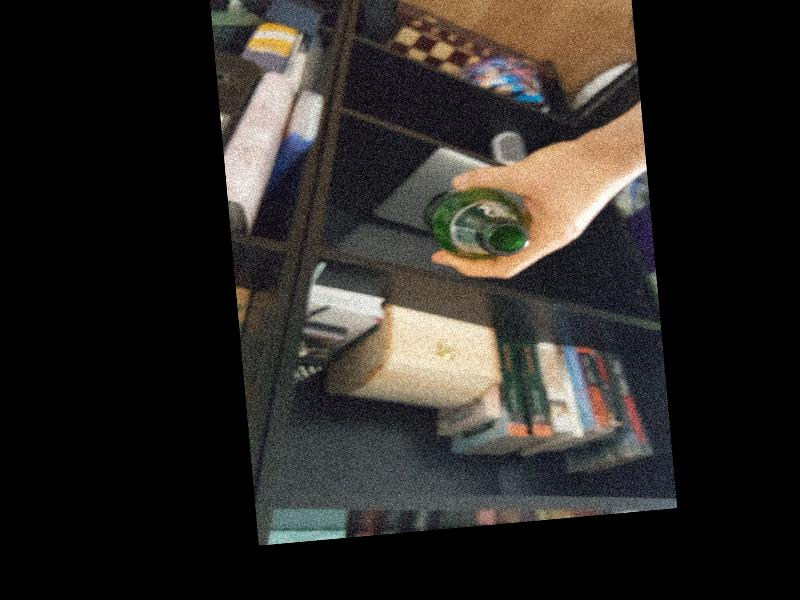Beer: (421, 179, 531, 261)
